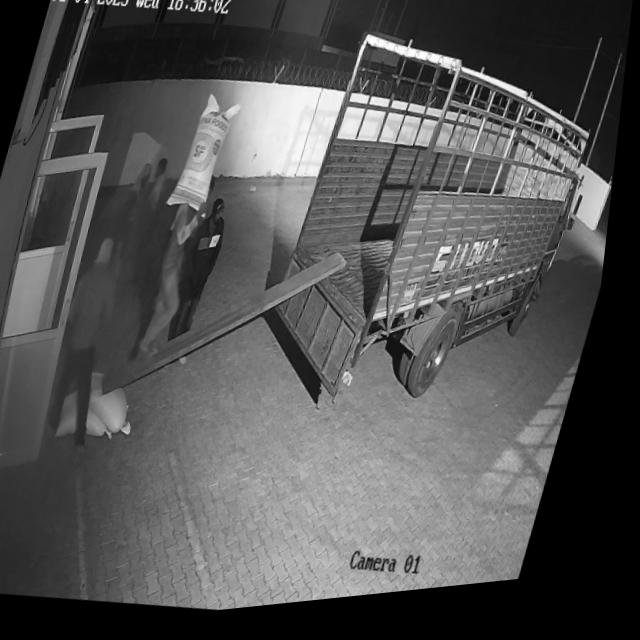sack: (169, 92, 246, 219), (82, 367, 159, 445), (62, 387, 135, 447)
